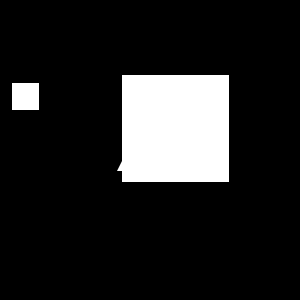circle: (122, 75, 229, 182), (12, 83, 39, 110)
triangle: (117, 82, 206, 171)
